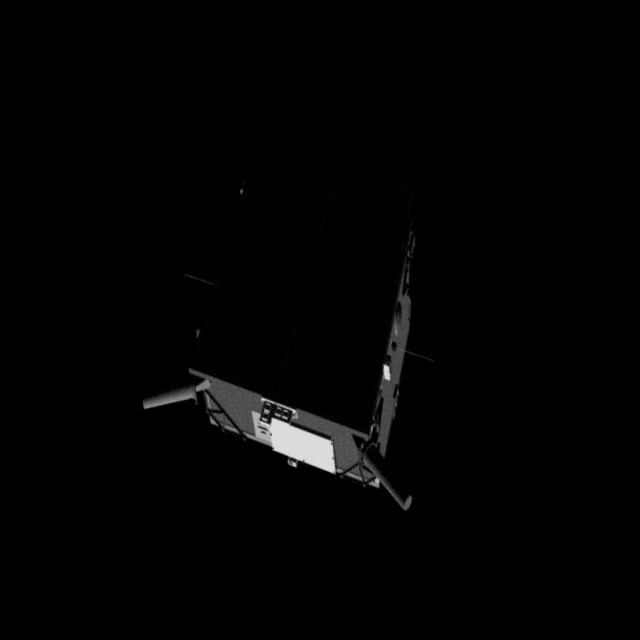satellite: (119, 141, 451, 530)
